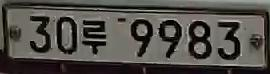0: (53, 14, 80, 55)
3: (213, 16, 244, 62), (25, 12, 55, 56)
8: (184, 18, 215, 62)
9: (127, 16, 158, 59), (155, 16, 184, 60)
루: (80, 17, 109, 58)
